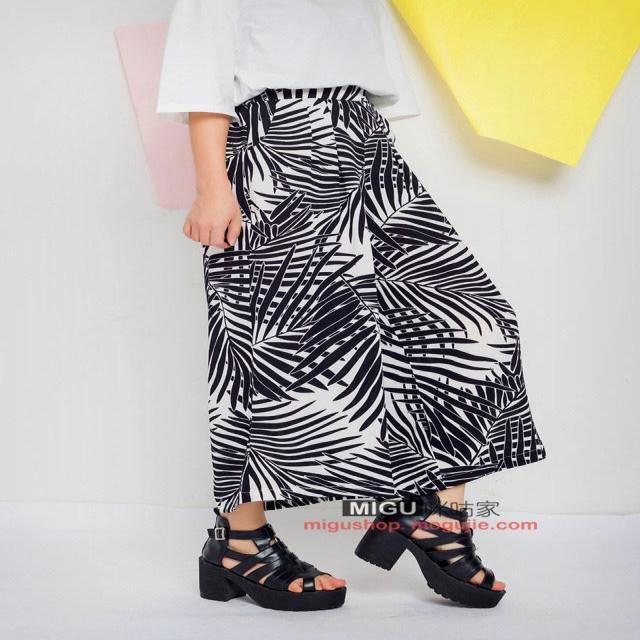long sleeve top: (157, 1, 418, 122)
trousers: (201, 79, 544, 513)
